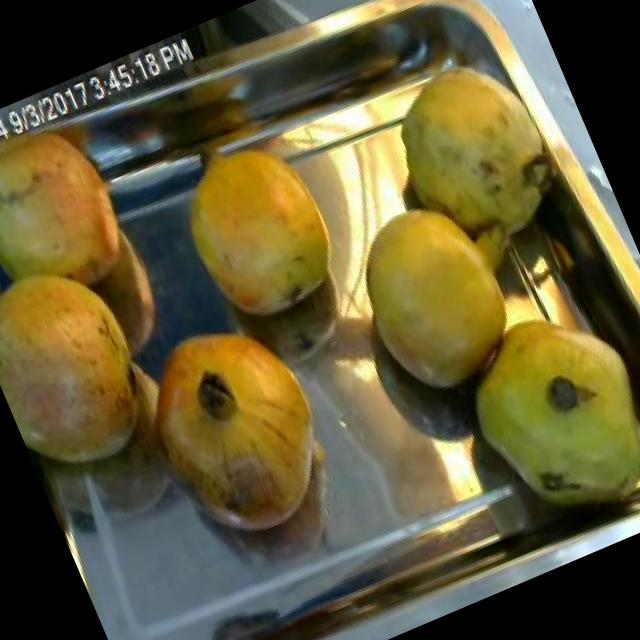fruit: (104, 284, 368, 575), (355, 24, 592, 284), (320, 168, 546, 422), (433, 271, 640, 547), (150, 108, 370, 349), (0, 229, 184, 499), (0, 83, 151, 330)
